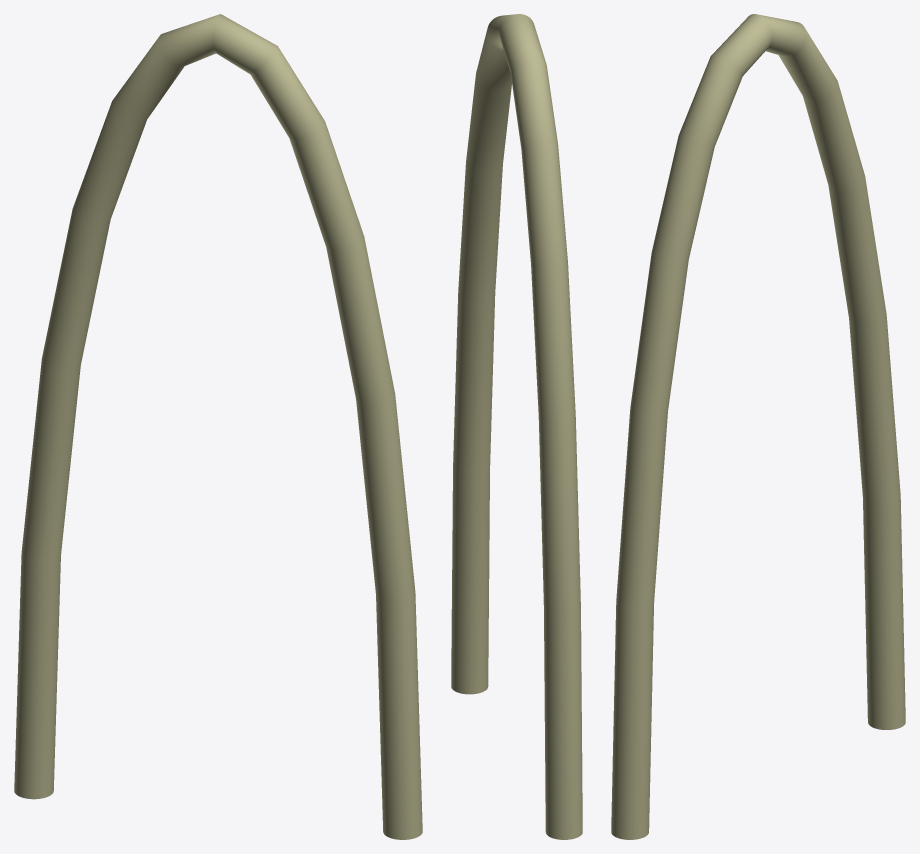
The model's file is spike2.gltf.
3 views of the same model, side by side, from view 1: azimuth 30°, elevation 25°; view 2: azimuth 150°, elevation 25°; view 3: azimuth 270°, elevation 25° (orthographic). The views are drawn at different scales.
Parts seen in each view (by area): view 1: spike2; view 2: spike2; view 3: spike2.
Boxes of the visible parts, bbox=[...] form: spike2: bbox=[14, 14, 422, 839]; spike2: bbox=[451, 14, 582, 839]; spike2: bbox=[611, 14, 905, 839].
Bounding box in the file's own units: 0.2446 × 0.6906 × 0.242.
